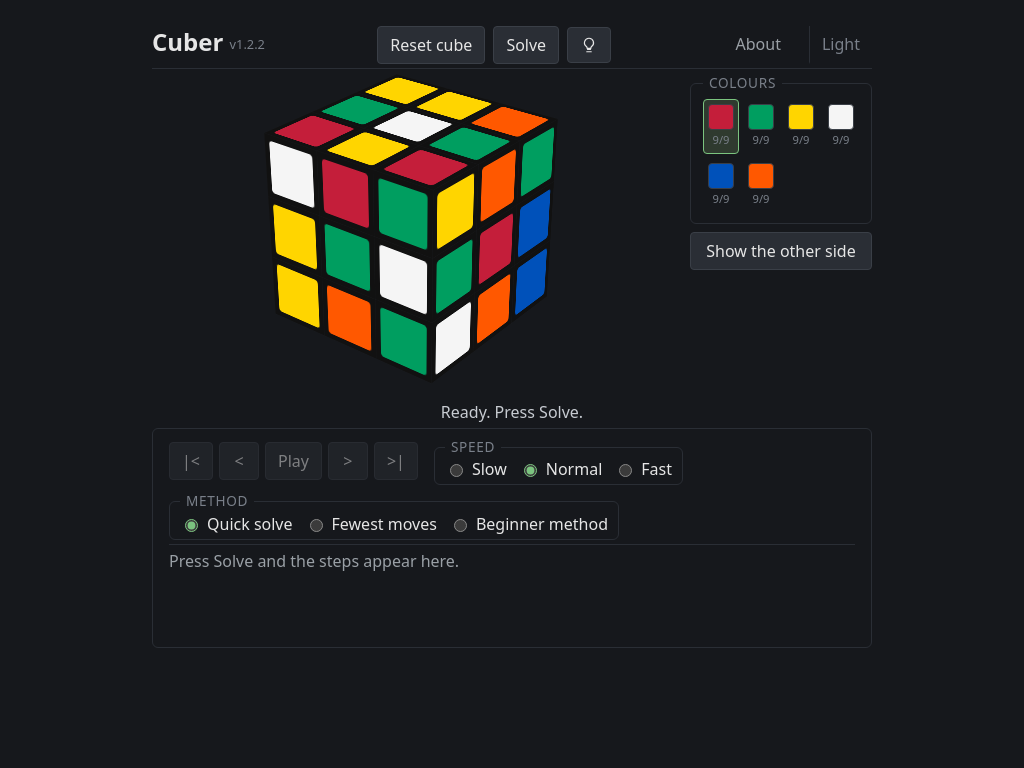
Test: Solve › turns each control off where it would do nothing
This screenshot has width=1024, height=768.
Expected: the button named "Jump to start" is disabled, [169,442,213,480]
Expected: the button named "Step back" is disabled, [219,442,259,480]
What coordinates should you click on to do the following:
click the button "Solve"
I would click on:
 (526, 45)
Its box is [493,26,559,64].
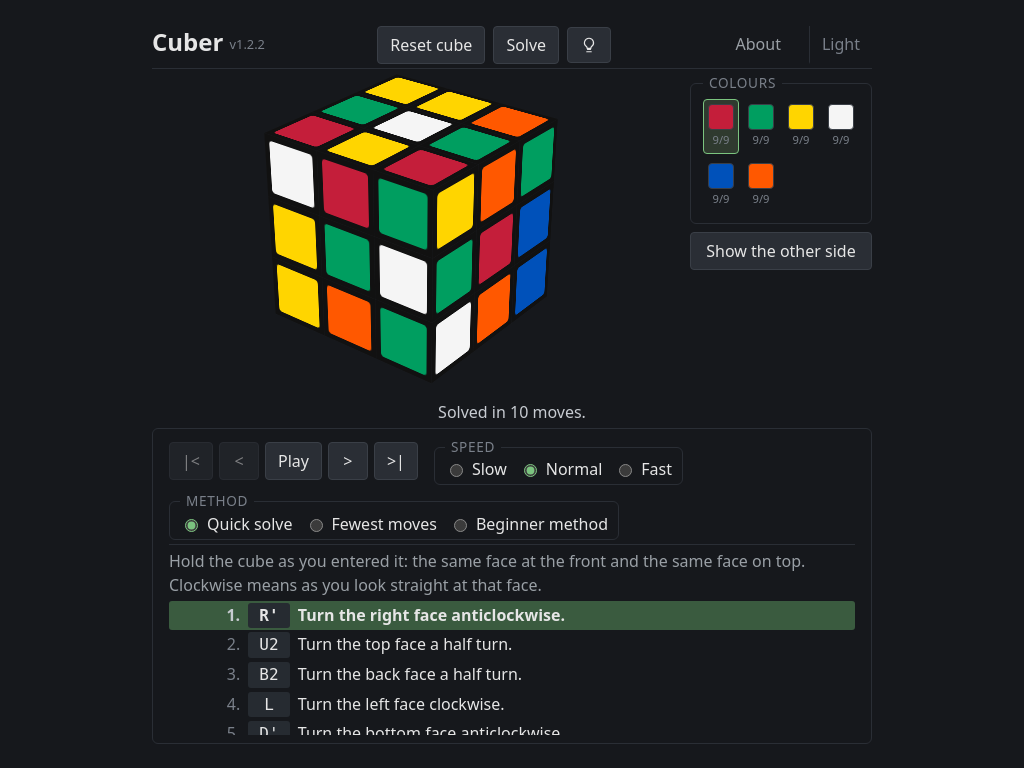
Expected: the button named "Jump to start" is disabled, [169,442,213,480]
Result: the button named "Jump to end" is enabled
What coordinates should you click on to do the following:
click the button named "Jump to end"
I would click on:
 (396, 461)
Its box is [374,442,418,480].
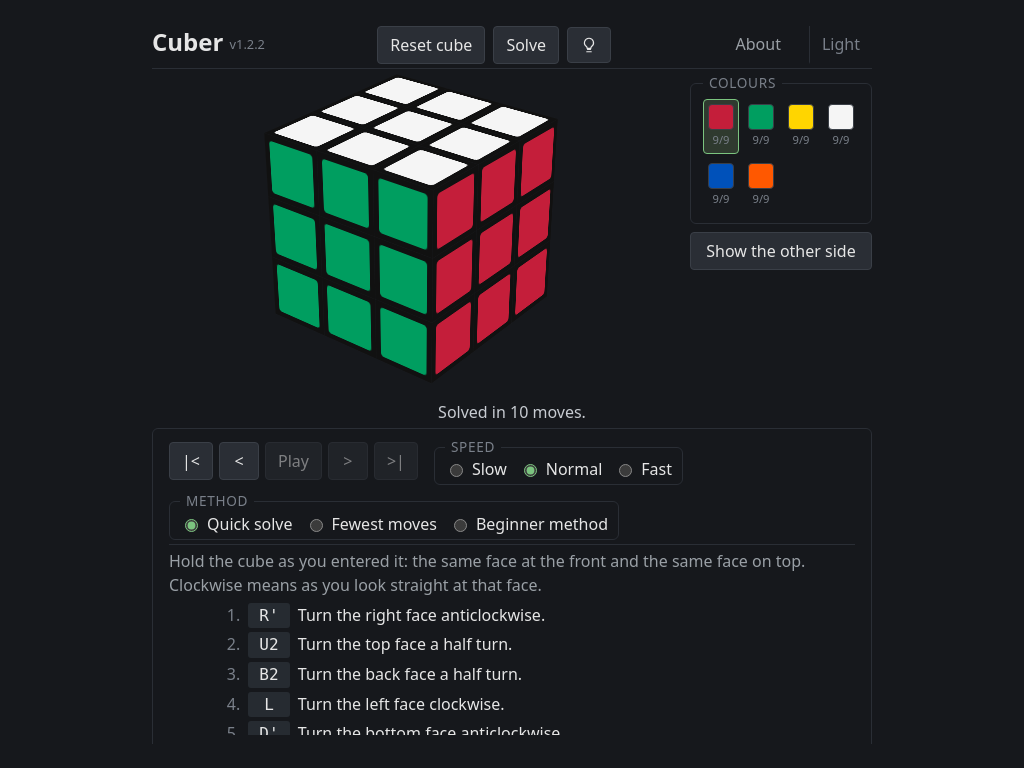
Expected: the button named "Step forward" is disabled, [328,442,368,480]
Result: the button named "Jump to end" is disabled at [374,442,418,480]
Result: the button named "Jump to start" is enabled at [169,442,213,480]
